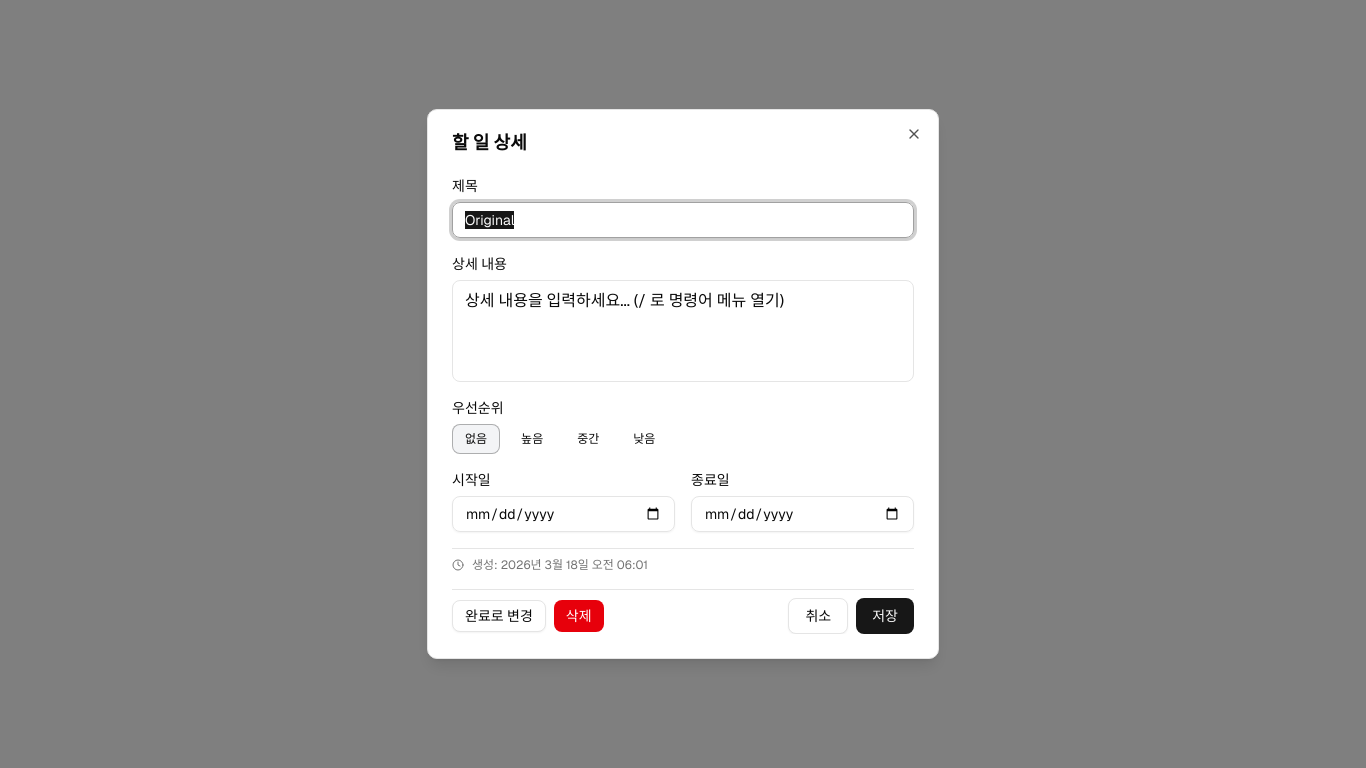
Test case: TodoDetail › disables save button when title is empty
The image size is (1366, 768).
Clear the field showing "Original" at (683, 220), box [452,202,914,238]
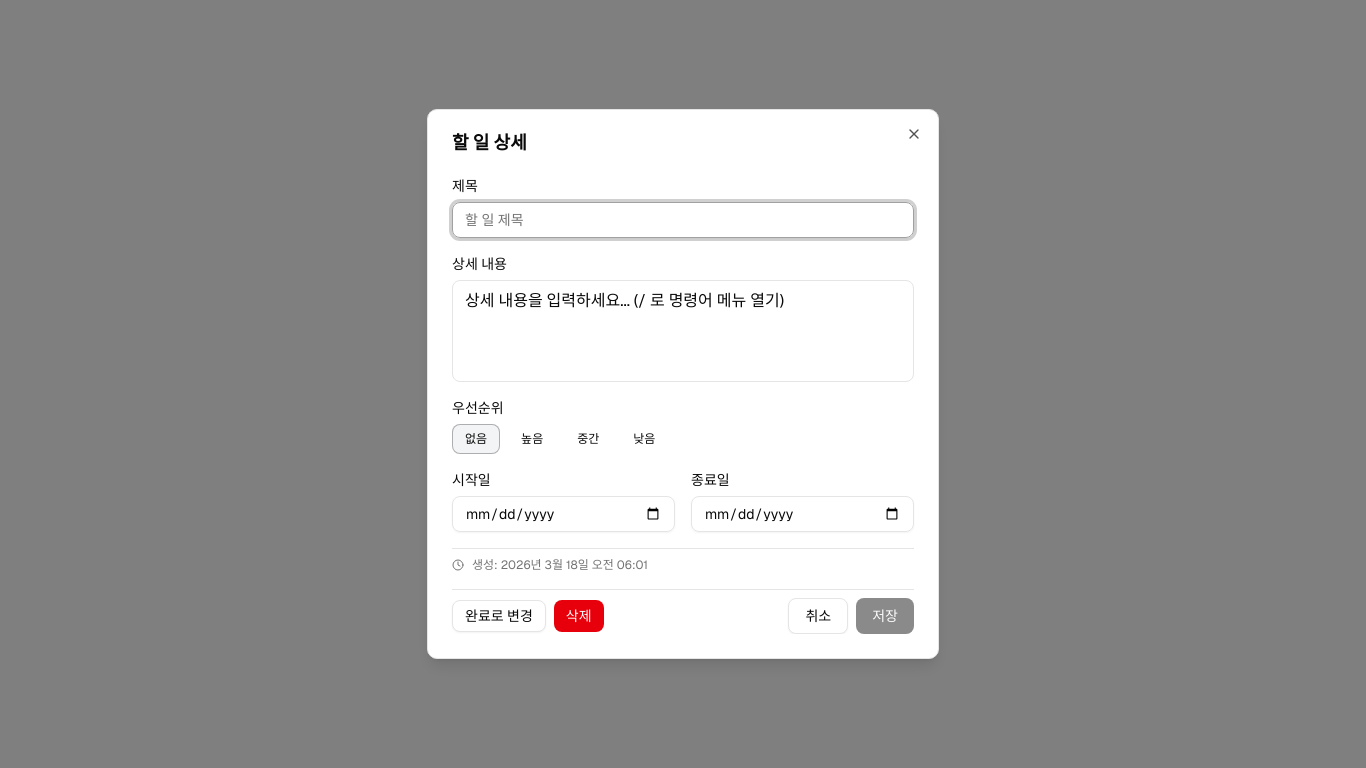
Check: the button "저장" is disabled, box [856,598,914,634]
